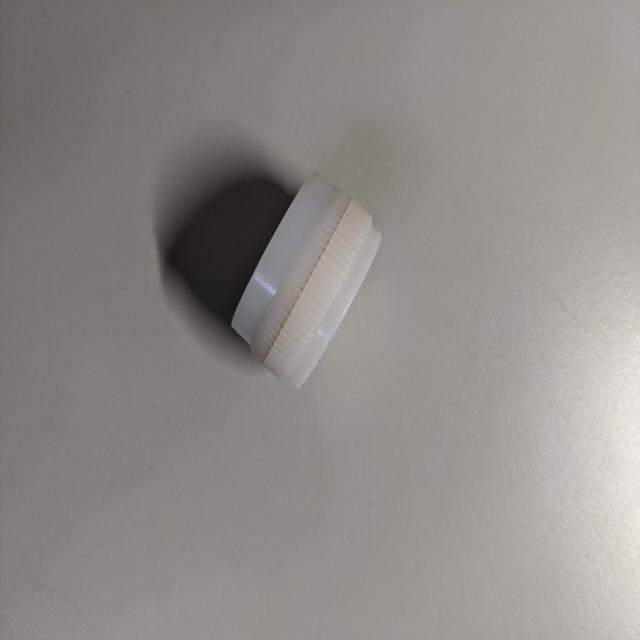Plastic: (224, 175, 383, 388)
